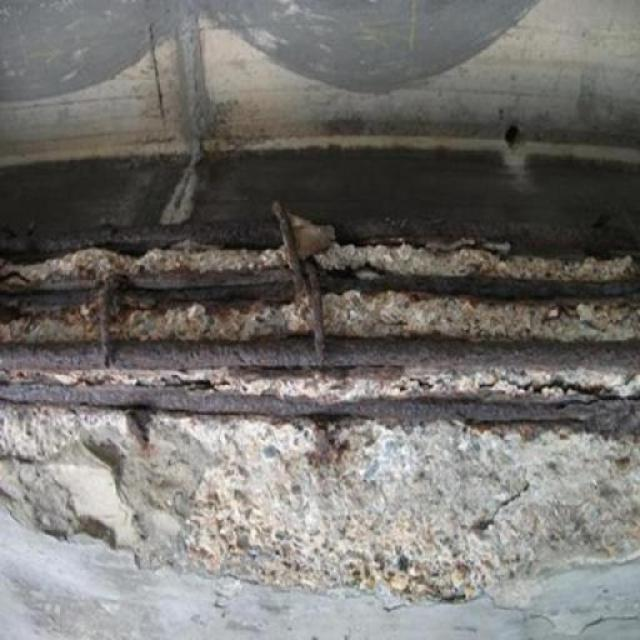D0w0: (0, 141, 639, 600)
